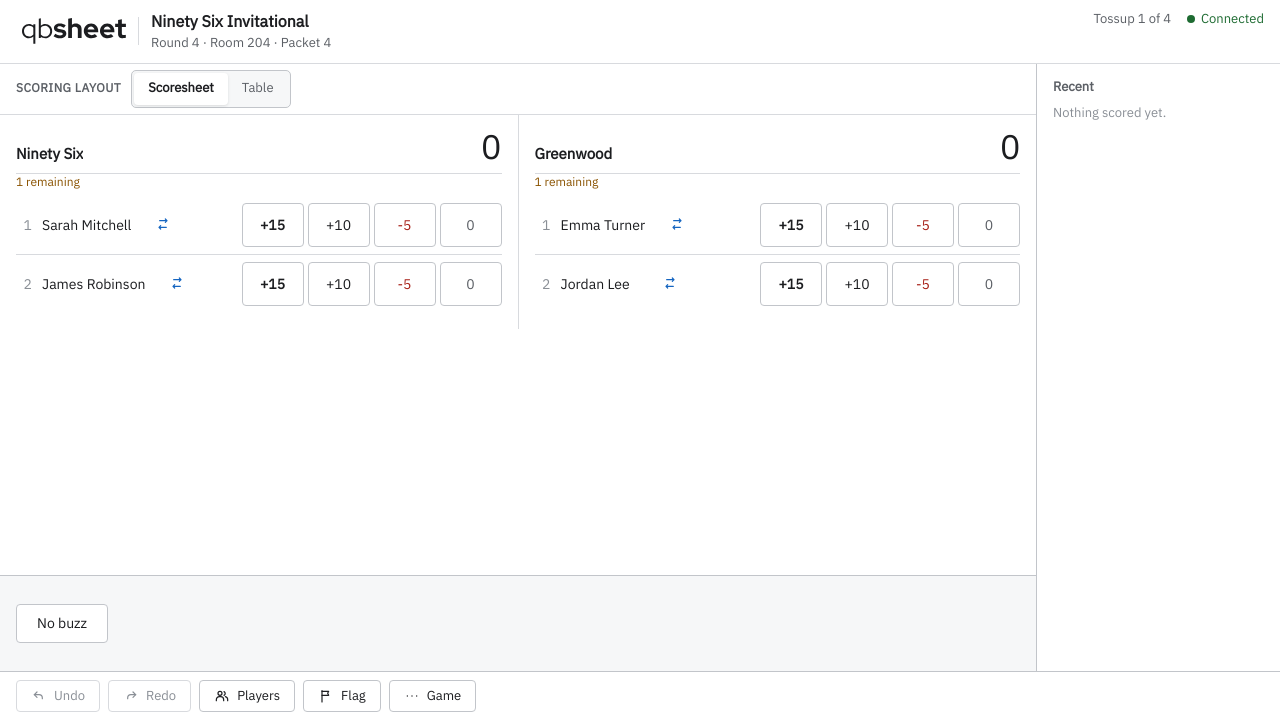
Scenario: a timeout the tournament director allowed › the exhausted team is offered a way out, and the other team is not
Click the button "Game" at (432, 696), box [389, 680, 476, 712]
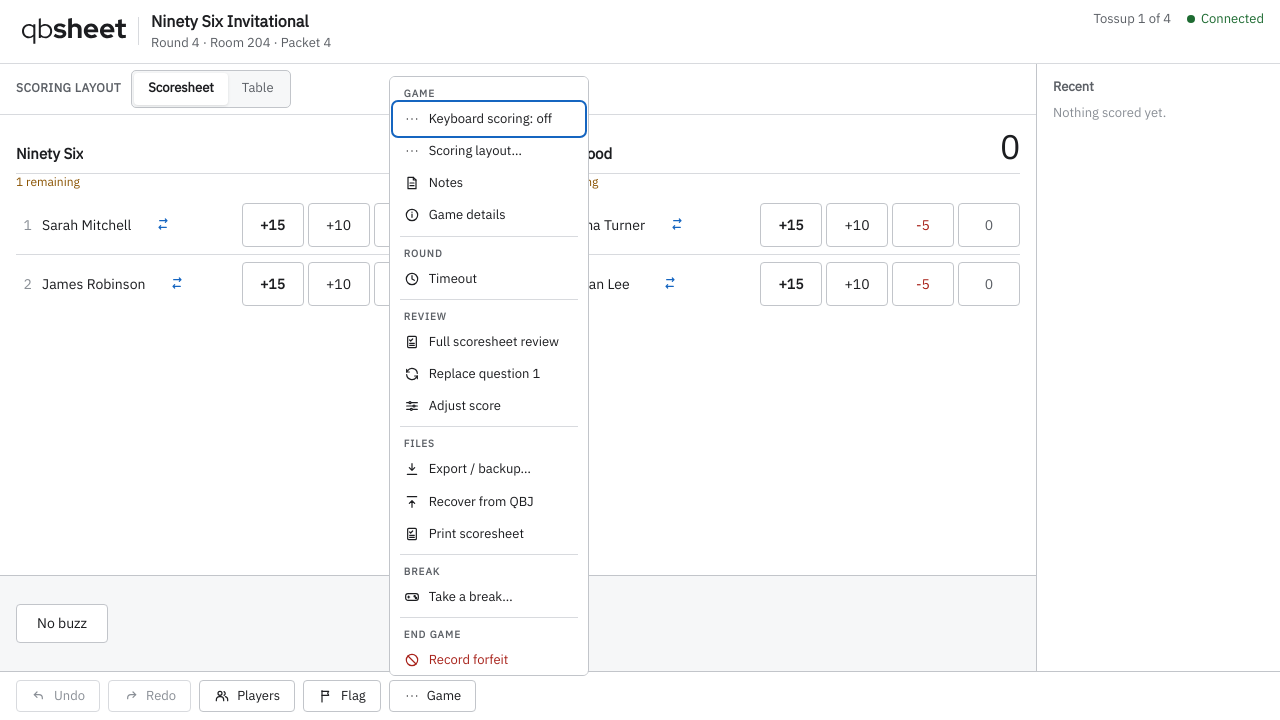
Click the menu item "Timeout" at (489, 279), box [394, 263, 584, 295]
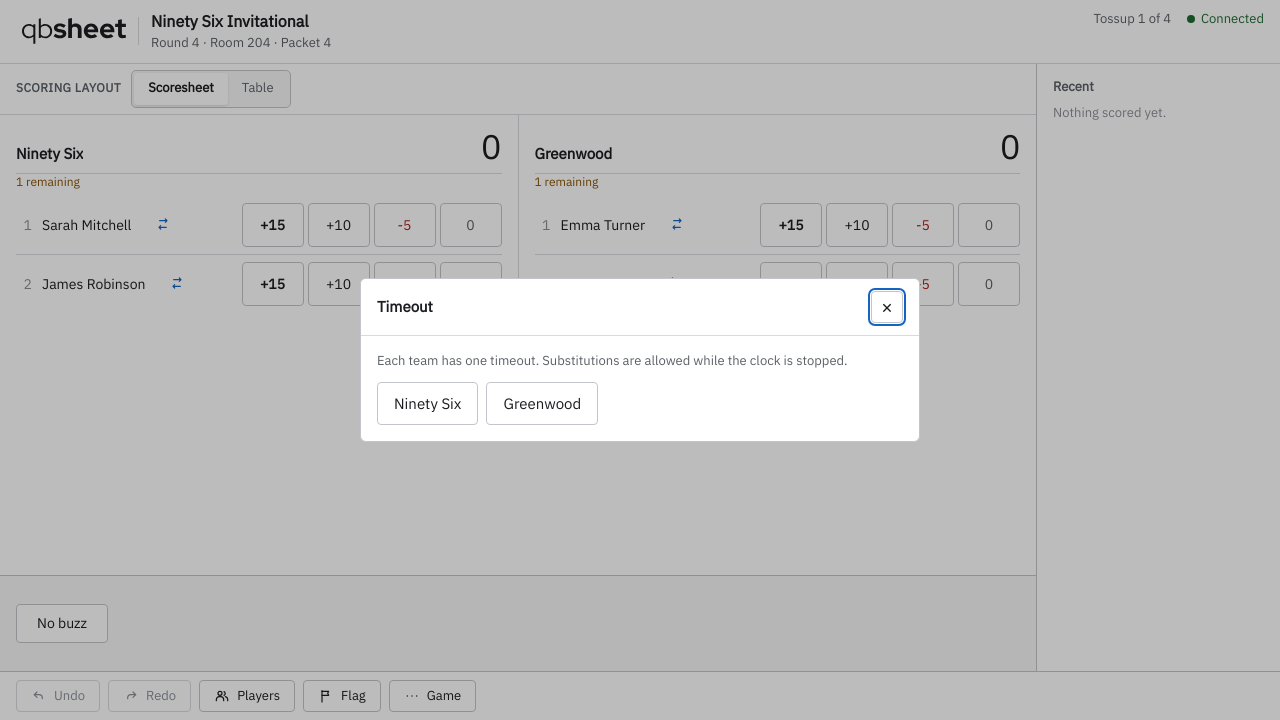
Click the button "Ninety Six" at (428, 404), box [377, 382, 478, 425]
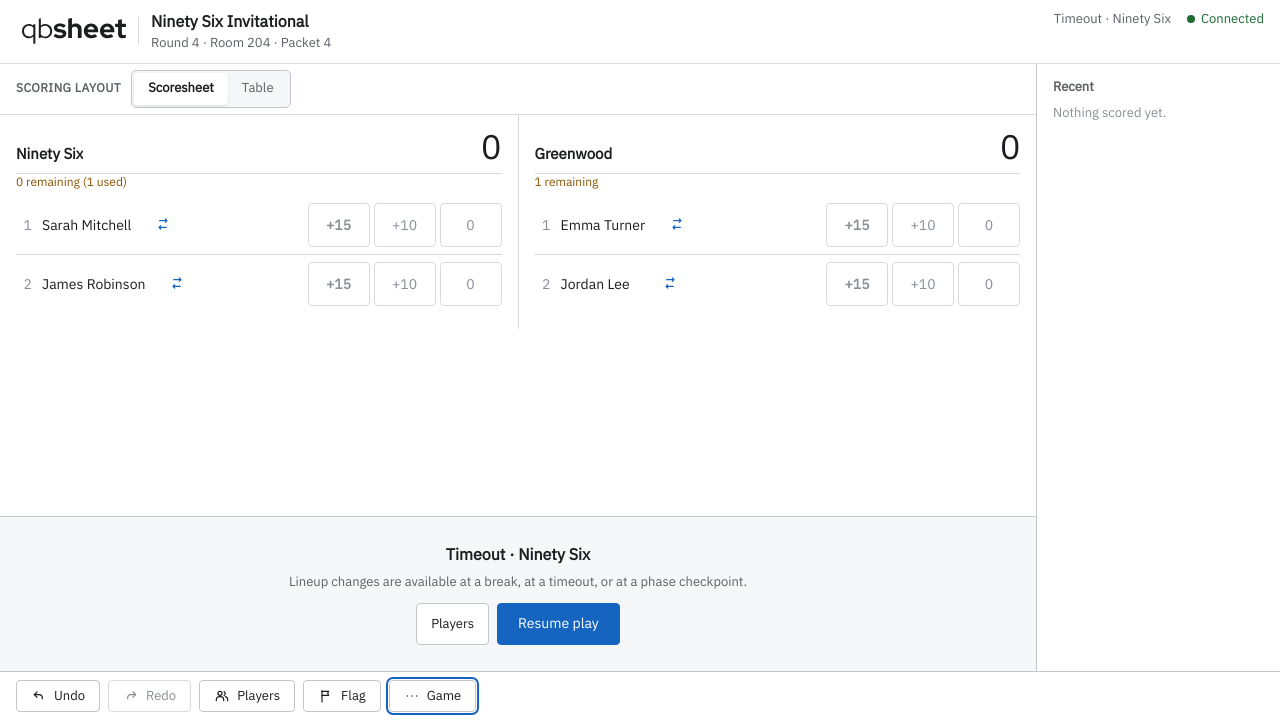
Click the button "Resume play" at (558, 624), box [497, 603, 620, 645]
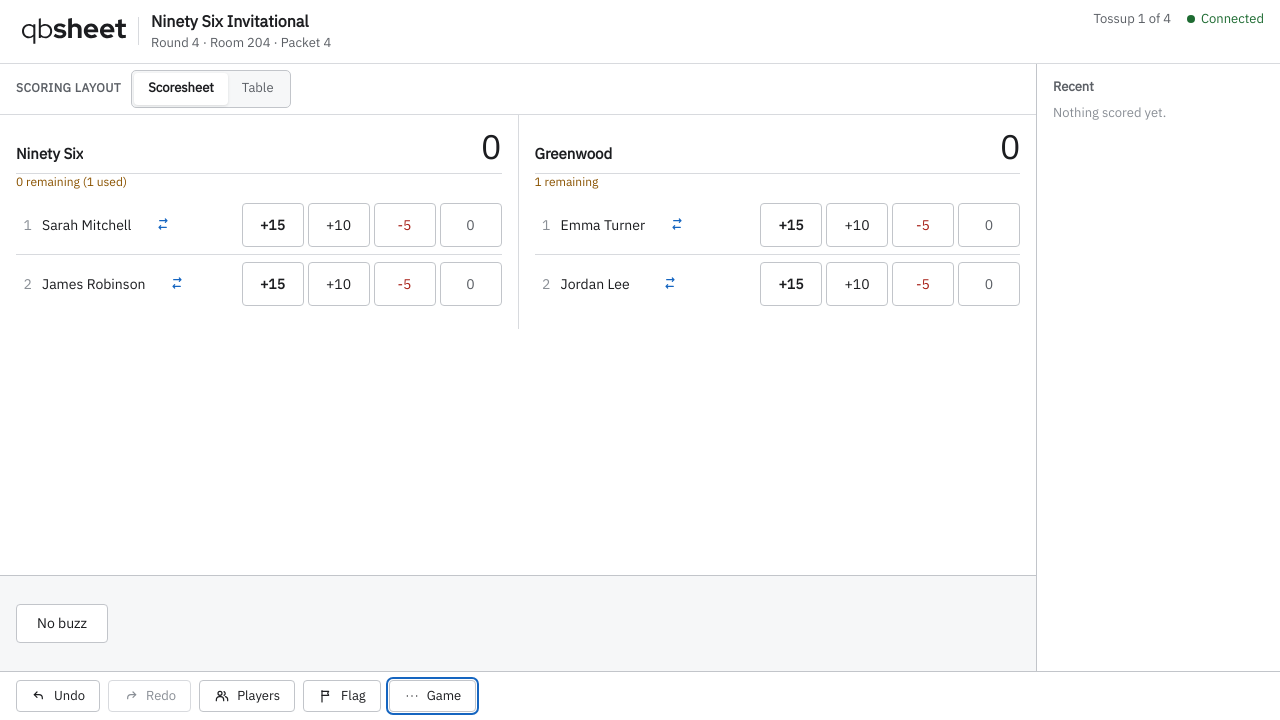
Click the button "Game" at (432, 696), box [389, 680, 476, 712]
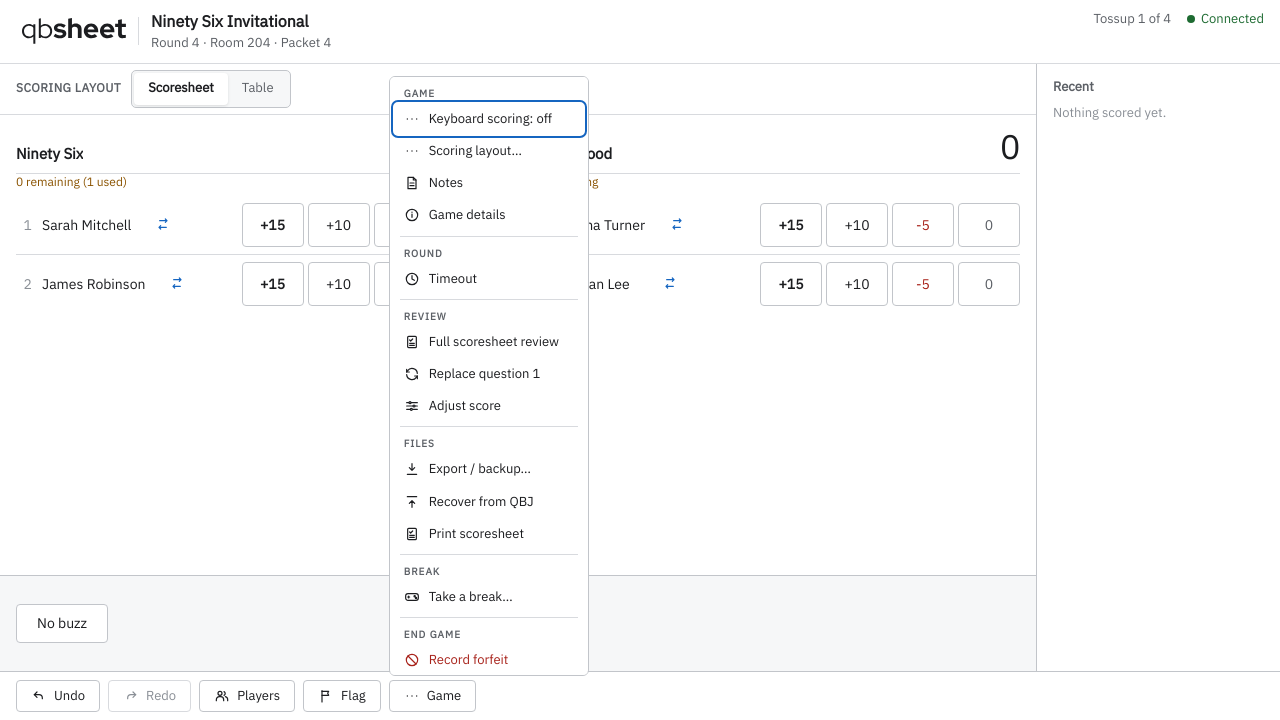
Click the menu item "Timeout" at (489, 279), box [394, 263, 584, 295]
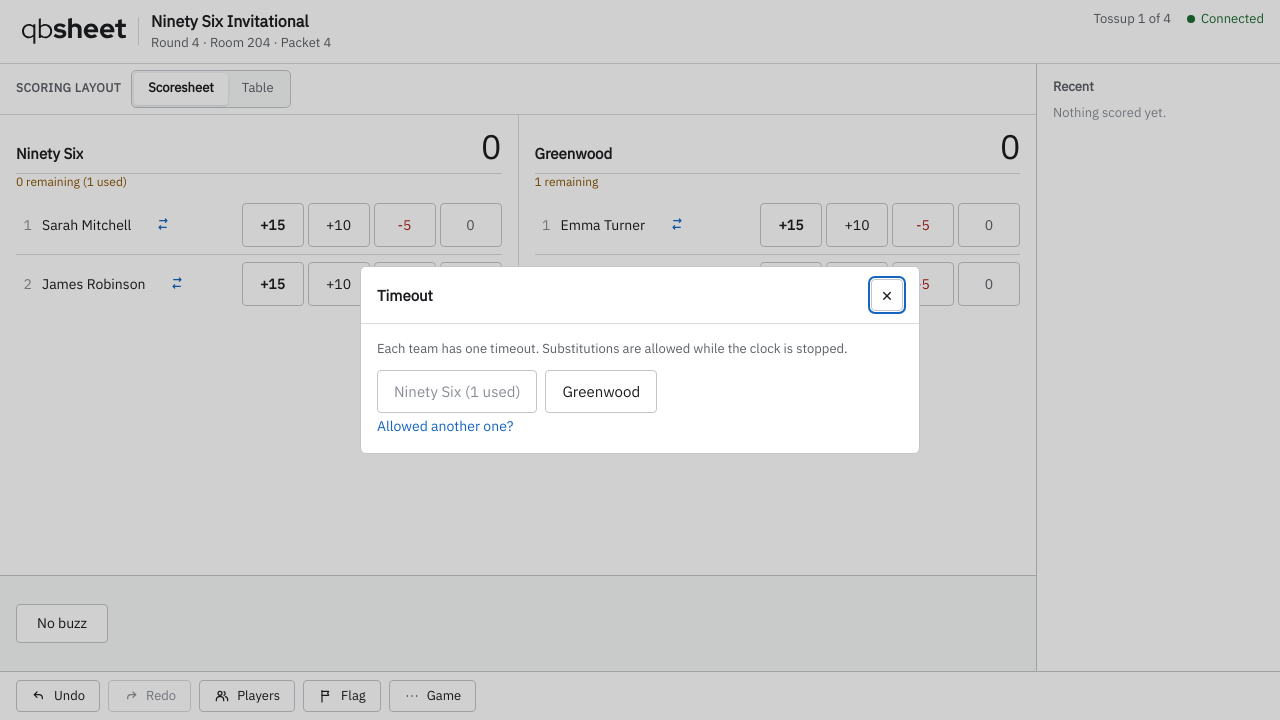
Now the number of buttons "Allowed another one?" is 1, box [377, 417, 514, 437]
Now the button "Greenwood" is enabled, box [545, 370, 657, 413]
